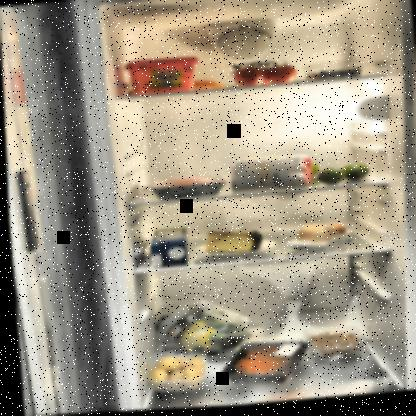beef: (214, 339, 312, 392)
blueberries: (301, 59, 371, 86)
butter: (120, 54, 201, 99)
carrot: (123, 78, 228, 99)
cheese: (200, 228, 263, 258)
eggs: (292, 223, 348, 251)
ground_beef: (144, 174, 229, 202)
lime: (295, 160, 374, 191)
milk: (145, 228, 190, 271)
potato: (144, 355, 204, 397)
shrimp: (305, 331, 362, 364)
spinach: (150, 299, 250, 369)
tomato: (224, 55, 299, 91)
